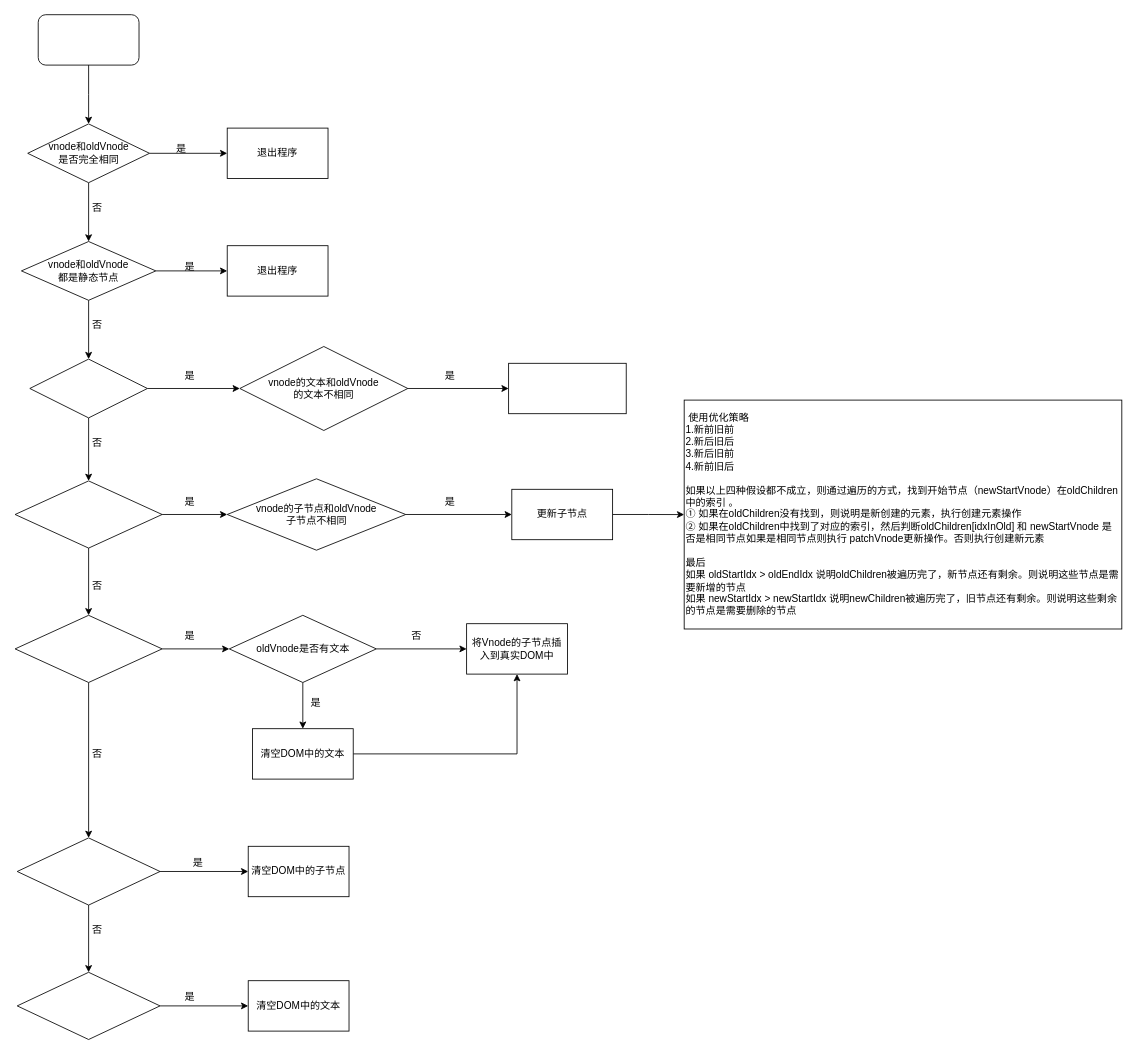
Image size: 1137x1054. Some labels were removed from this diagram. Each missing label, with the centre of its shape:
oldVnode中是否有文本: the point at 88,1005
vnode和oldVnode都 有子节点: the point at 88,514
vnode有文本: the point at 88,388
只有oldVnode有子节点: the point at 88,871
只有vnode有子节点: the point at 88,648
更新节点: the point at 88,39
用vnode中的文本替换掉真实DOM中的内容: the point at 567,388
